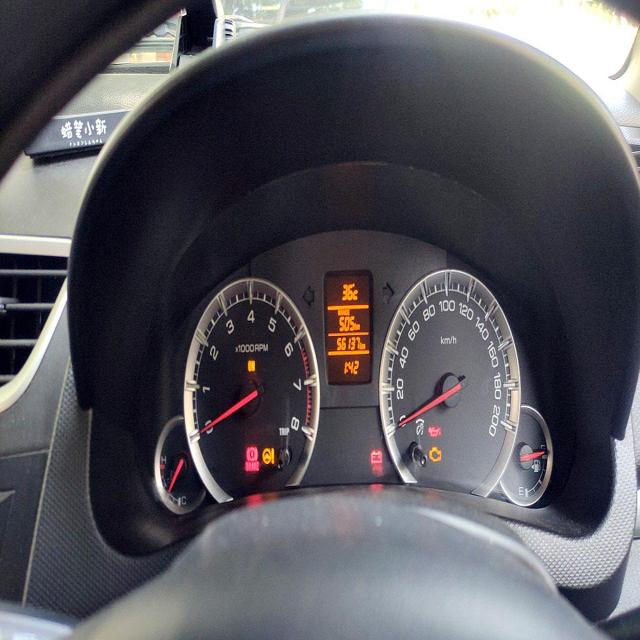odometer: (334, 335, 361, 353)
